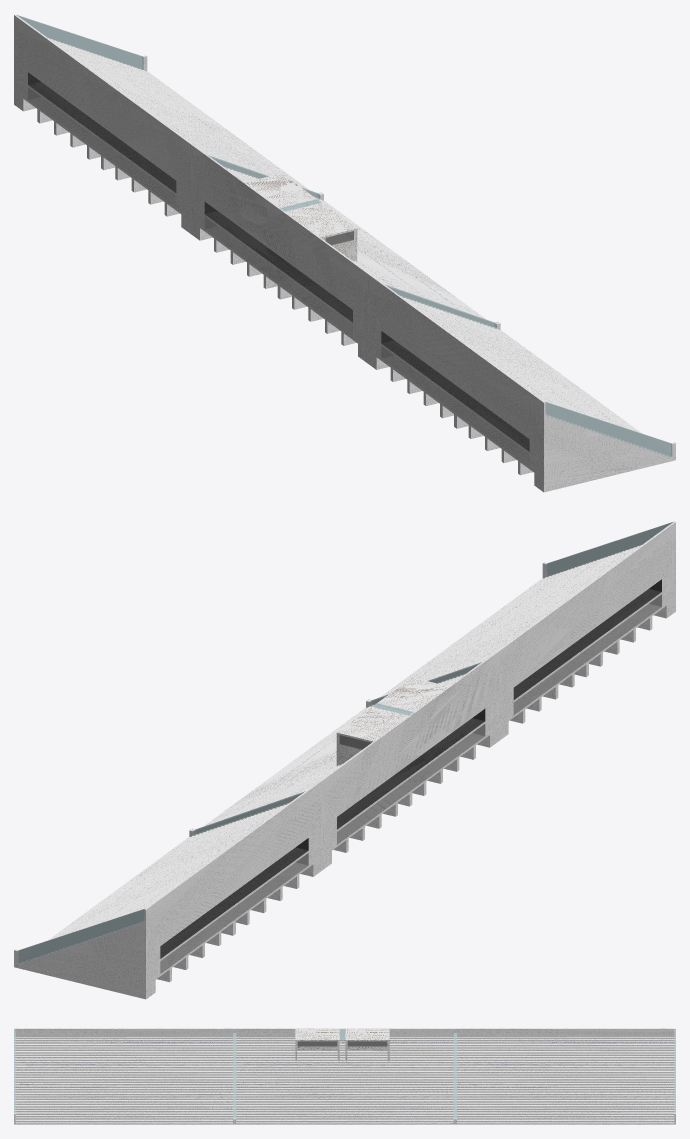
File: Grandstand2.fbx
3 views of the same model, one above another, from view 1: azimuth 30°, elevation 25°; view 2: azimuth 150°, elevation 25°; view 3: azimuth 270°, elevation 25° (orthographic). The views are drawn at different scales.
Visible parts, largest first — view 1: Component_19_1, Component_5_1; view 2: Component_19_1, Component_5_1; view 3: Component_19_1, Component_5_1.
Part boxes in pixels (x1,y1,x2,y2): Component_19_1: (14, 14, 675, 492); Component_5_1: (243, 173, 357, 261); Component_19_1: (14, 521, 675, 999); Component_5_1: (336, 677, 450, 765); Component_19_1: (14, 1028, 675, 1124); Component_5_1: (295, 1028, 389, 1061).
Bounding box in the file's own units: 32.4 × 21.02 × 225.
